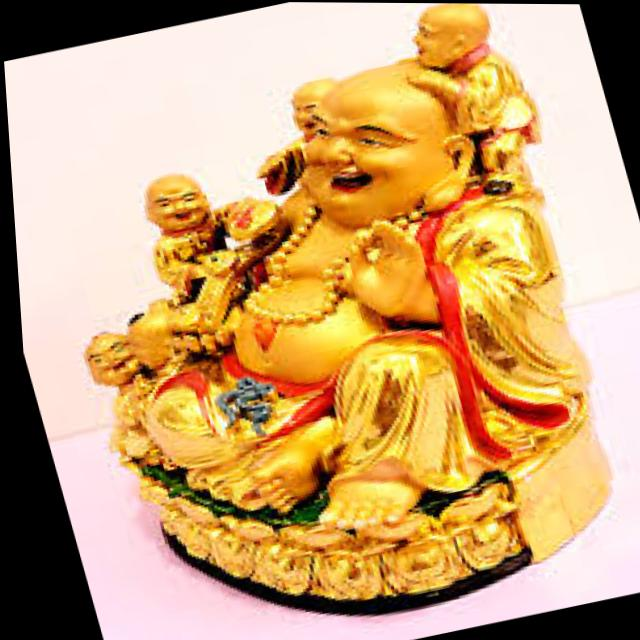Smiling Buddha: (137, 23, 602, 496)
